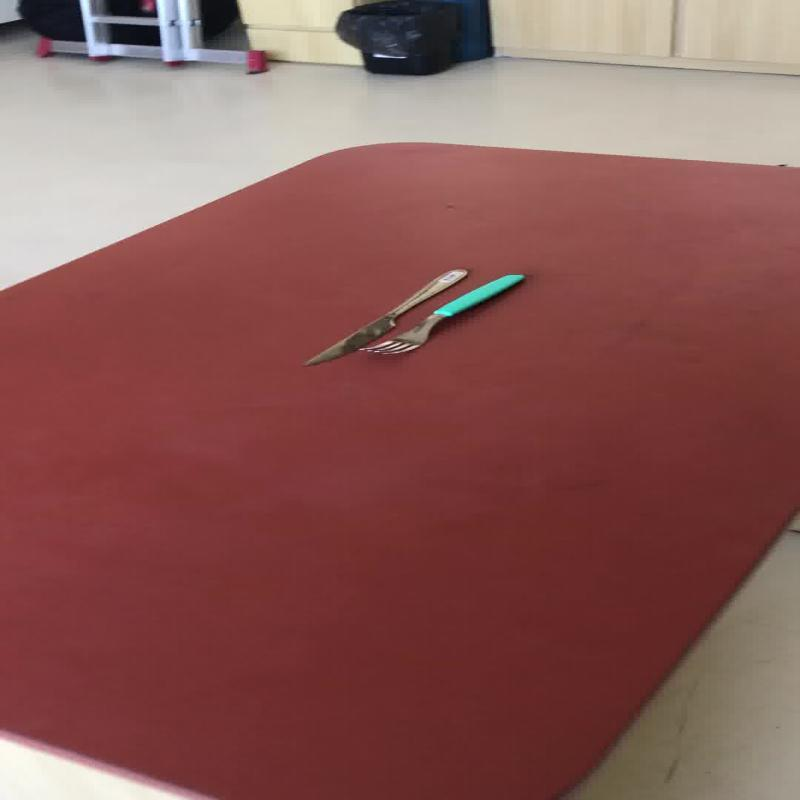fork: (357, 272, 524, 355)
knife: (300, 267, 468, 366)
